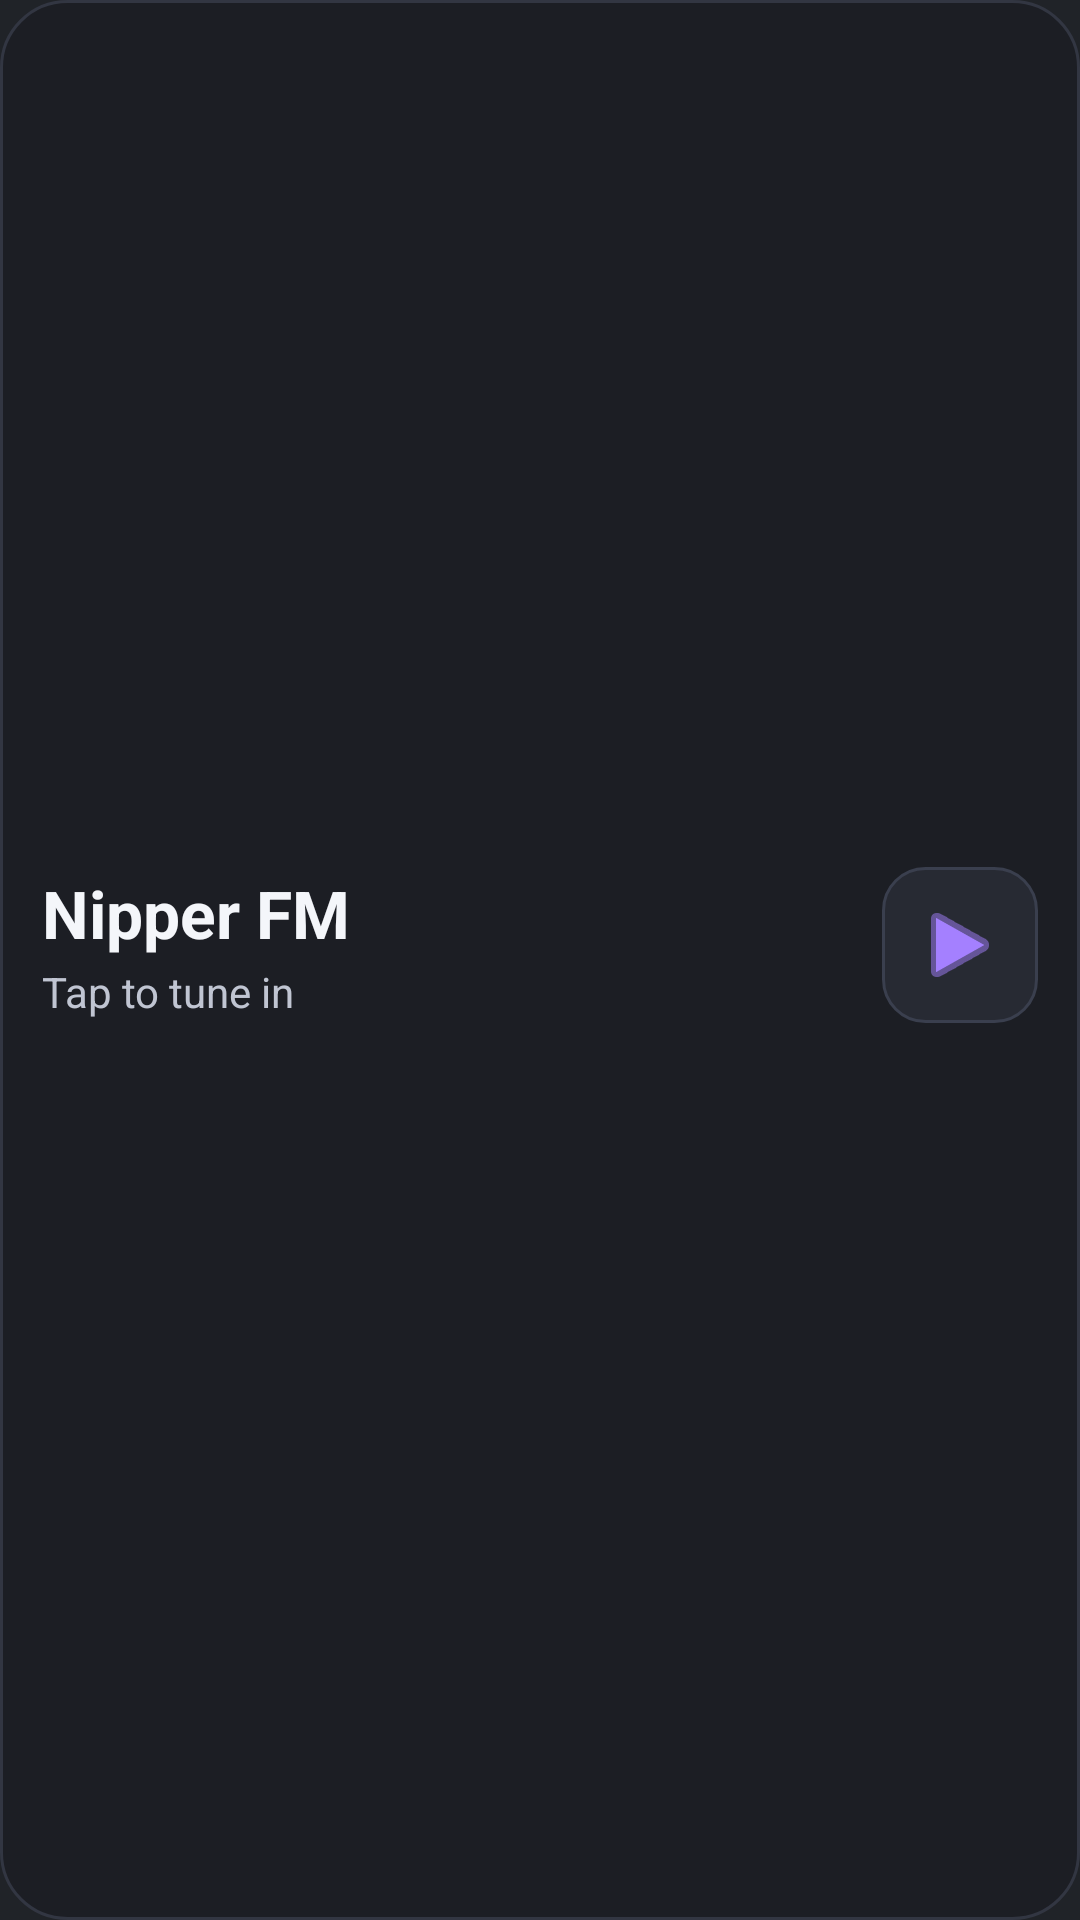

Screen size 1080x1920. Icon name, then its box in pixels as (x1, y1, x2, y2):
Play or pause radio: (882, 867, 1038, 1023)
